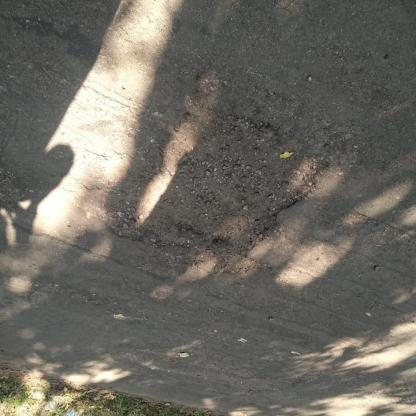pothole: (103, 106, 333, 260)
